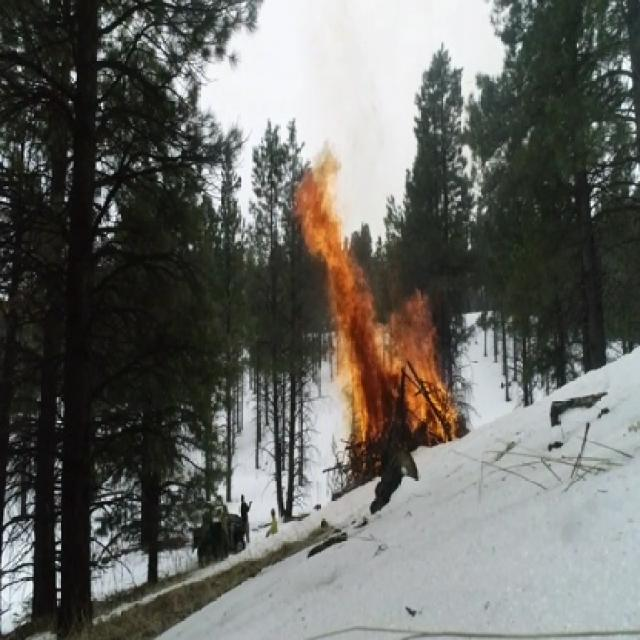Fire: (291, 140, 463, 463)
